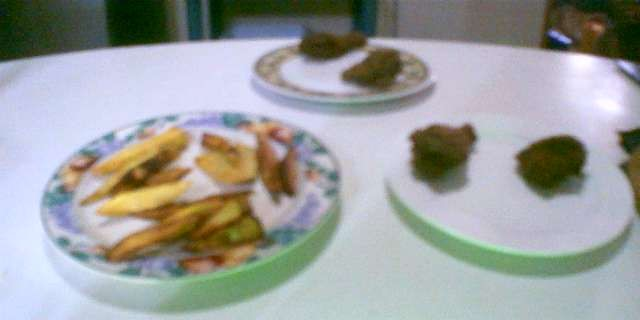chicken: (398, 114, 486, 184), (506, 132, 596, 196), (292, 16, 371, 63), (337, 47, 407, 95)
potatoe_fries: (79, 123, 297, 274)
